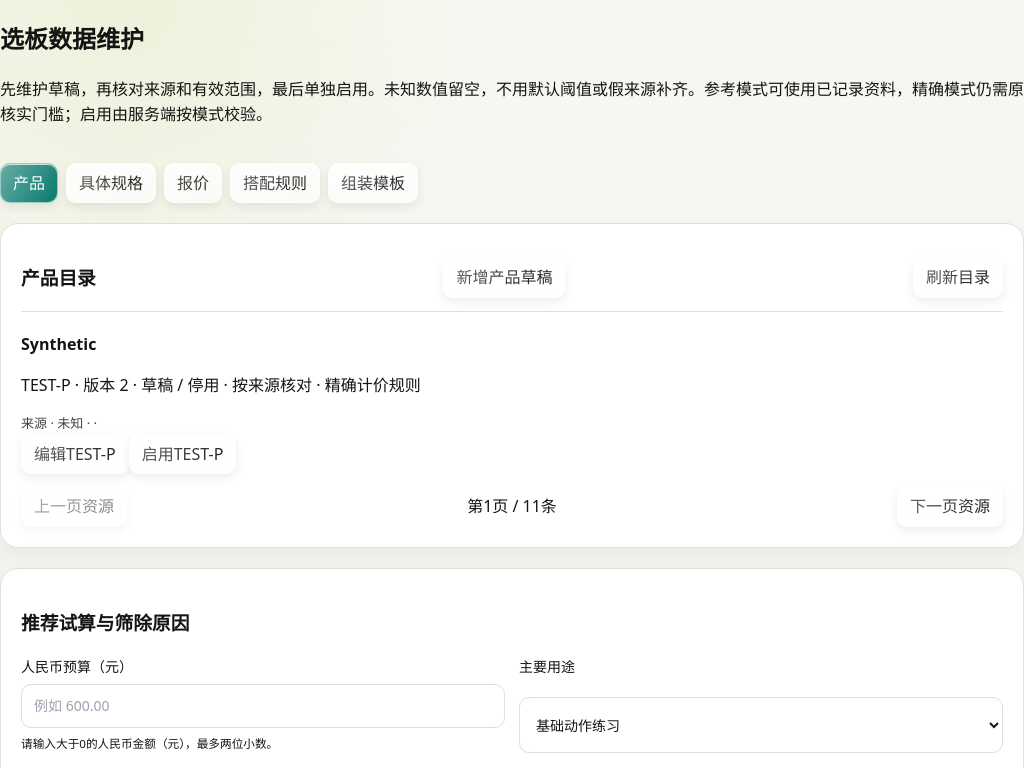
Test: SYNTHETIC admin frontend gates › activation HTTP200 failure preserves inactive record and issues
Step 1. Click the button "启用TEST-P" → (183, 454), box [129,434,236,474]
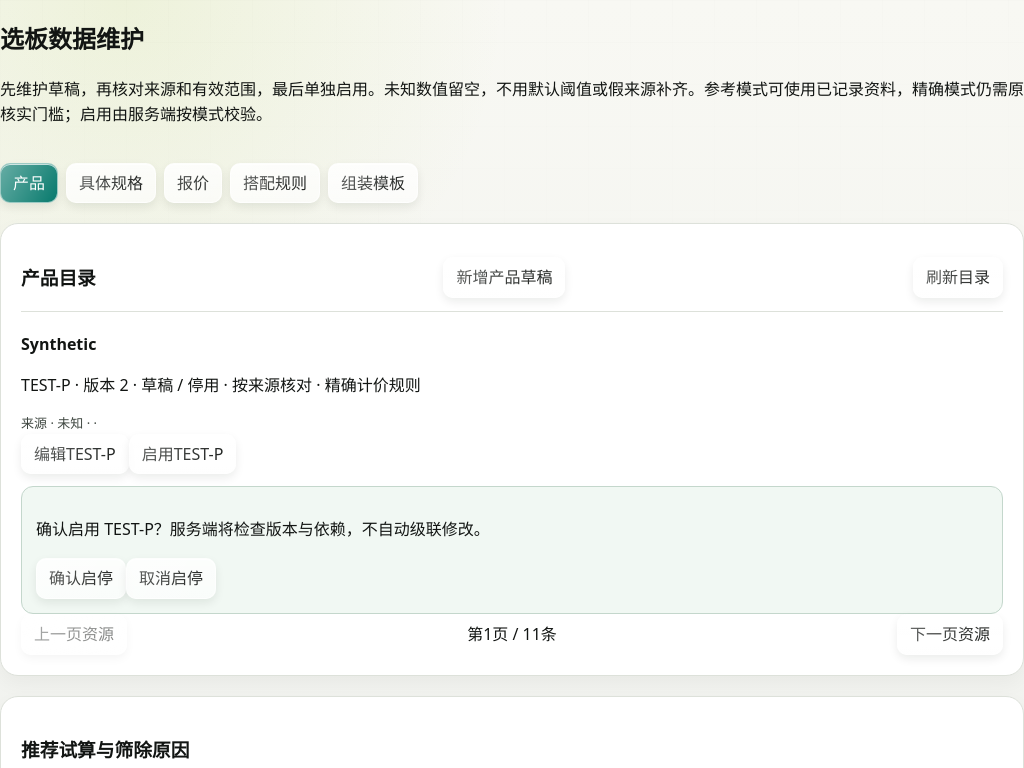
Step 2. Click the button "确认启停" → (81, 579), box [36,558,126,599]
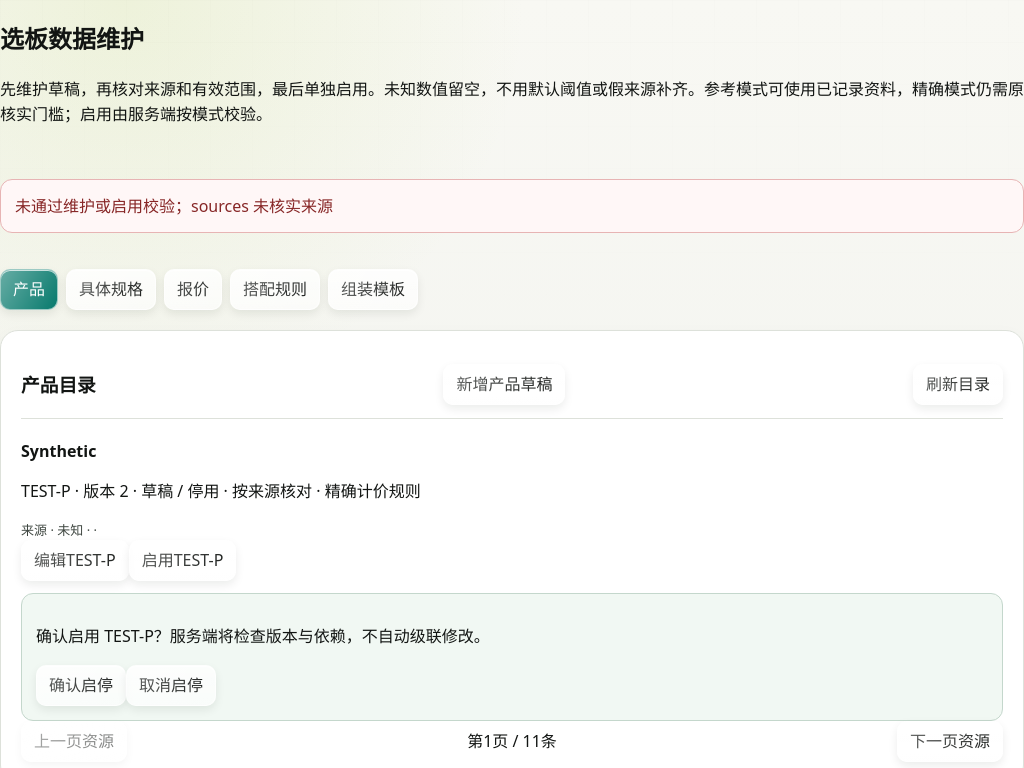
Expected: the text "未核实来源" is shown, [15,195,333,217]
